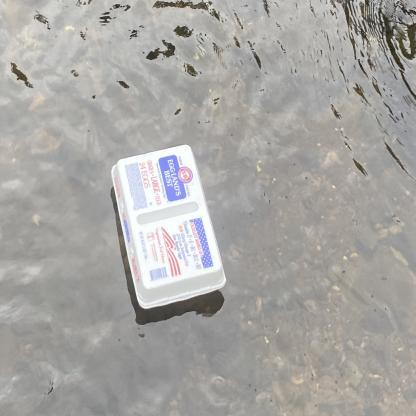trash: (108, 140, 228, 314)
